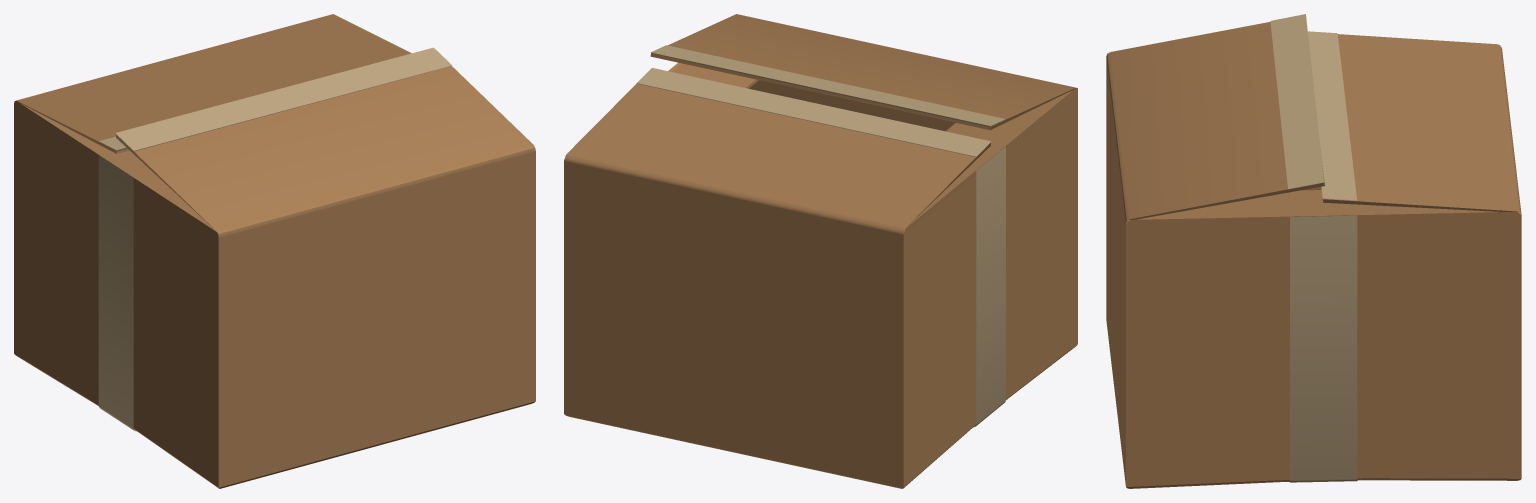
The model's file is new_koli_anim (4).fbx.
3 views of the same model, side by side, from view 1: azimuth 30°, elevation 25°; view 2: azimuth 150°, elevation 25°; view 3: azimuth 270°, elevation 25° (orthographic). The views are drawn at different scales.
Parts seen in each view (by area): view 1: koli anim; view 2: koli anim; view 3: koli anim.
Part boxes in pixels (bbox=[...]): koli anim: bbox=[14, 14, 535, 488]; koli anim: bbox=[564, 14, 1077, 488]; koli anim: bbox=[1106, 14, 1521, 488].
Bounding box in the file's own units: 187 × 151 × 187.
